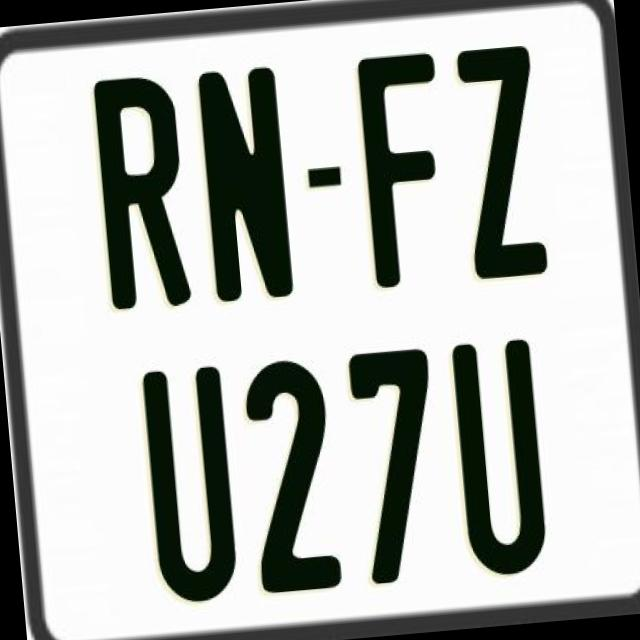2: (238, 352, 344, 594)
7: (346, 345, 453, 592)
F: (356, 49, 462, 291)
N: (192, 65, 292, 302)
R: (89, 71, 191, 316)
U: (138, 361, 237, 605), (449, 336, 547, 580)
Z: (456, 45, 555, 288)
